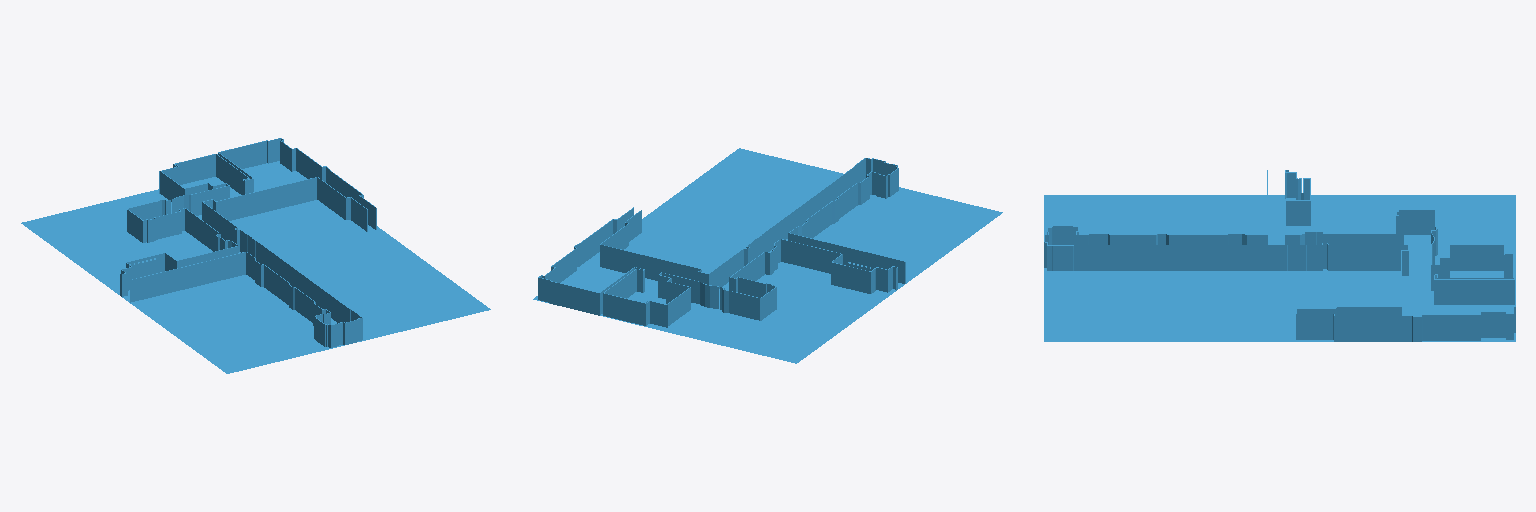
The robot description file, URDF, robot "glennan_2nd_floor":
<?xml version="1.0"?>
<robot  name="glennan_2nd_floor">

<!-- Used for fixing robot to Gazebo 'base_link' -->
  <link name="world"/>

  <joint name="glue_robot_to_world" type="fixed">
    <parent link="world"/>
    <child link="link"/>
    <origin xyz="0 0 0" rpy="0 0 0" />
  </joint>

 <!-- Base Link -->
  <link name="link">
    <visual>
      <origin xyz="0 0 -0.1" rpy="0 0 0"/>
      <geometry>
        <!--box size="0.2 0.2 1"/-->
        <mesh filename="package://exmpl_models/glennan_2nd_flr/glennan_2nd_flr.stl"/>
      </geometry>
    </visual>
    <collision>
      <origin xyz="0 0 -0.1" rpy="0 0 0"/>
      <geometry>
        <!--box size="0.2 0.2 1"/-->
        <mesh filename="package://exmpl_models/glennan_2nd_flr/glennan_2nd_flr.stl"/>
      </geometry>
    </collision>
    <inertial>
      <origin xyz="0 0 0.5" rpy="0 0 0"/>
      <mass value="1000"/>
      <inertia
        ixx="1000.0" ixy="0.0" ixz="0.0"
        iyy="1000.0" iyz="0.0"
        izz="1000.0"/>
    </inertial>
  </link>    
</robot>

--- What the picture shows (computed from the rendered views, not written in the file) ---
Views: 3 orthographic renders of the robot side by side, from view 1: azimuth 30°, elevation 25°; view 2: azimuth 150°, elevation 25°; view 3: azimuth 270°, elevation 25°.
Robot: glennan_2nd_floor — 2 links, 1 joints (1 fixed); root link world; default pose: every joint at zero.
Visible links, largest first — view 1: link; view 2: link; view 3: link.
Link boxes in pixels (bbox=[...]): link: bbox=[21, 138, 490, 373]; link: bbox=[533, 148, 1002, 363]; link: bbox=[1044, 170, 1515, 341].
Bounding box of the posed robot: 76.19 × 103 × 6.19 m (x, y, z).
1 mesh visuals loaded from 1 distinct referenced files (1 binary STL).
